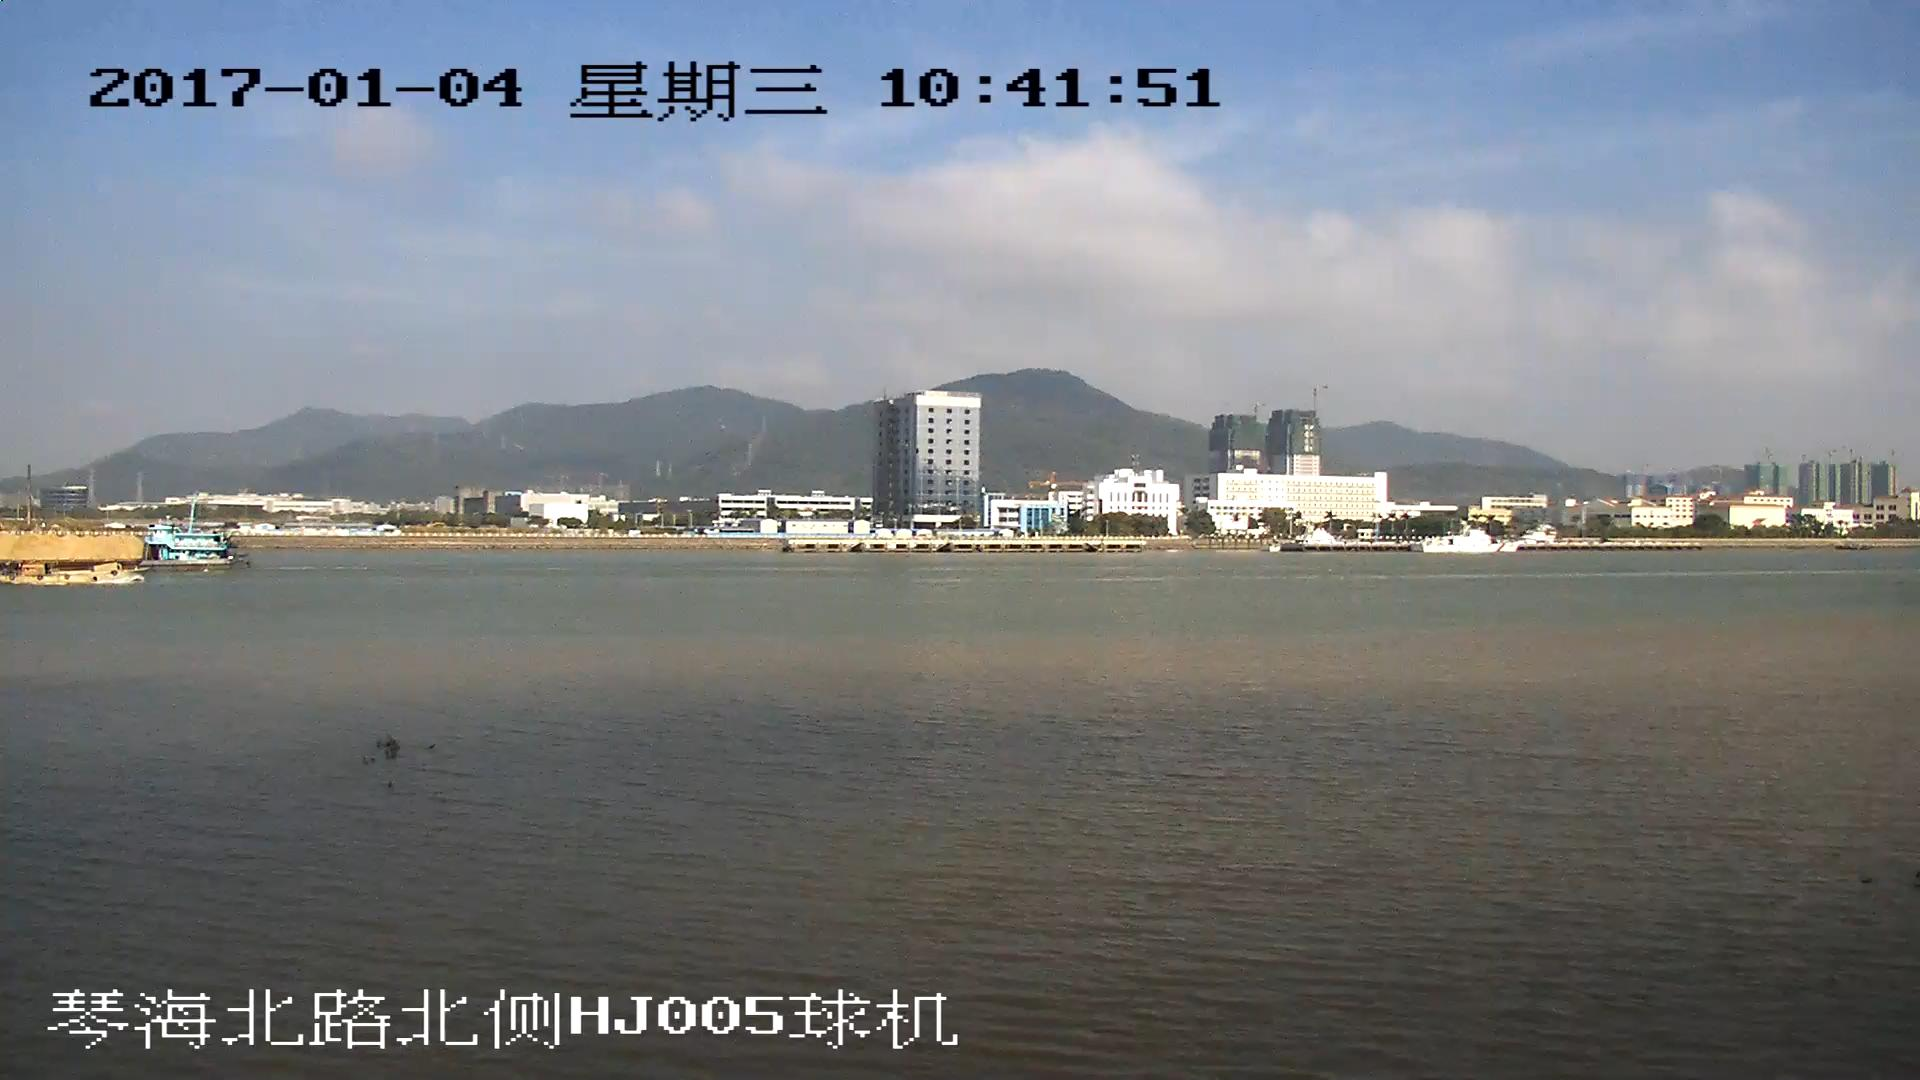ore carrier: (1, 523, 243, 569)
